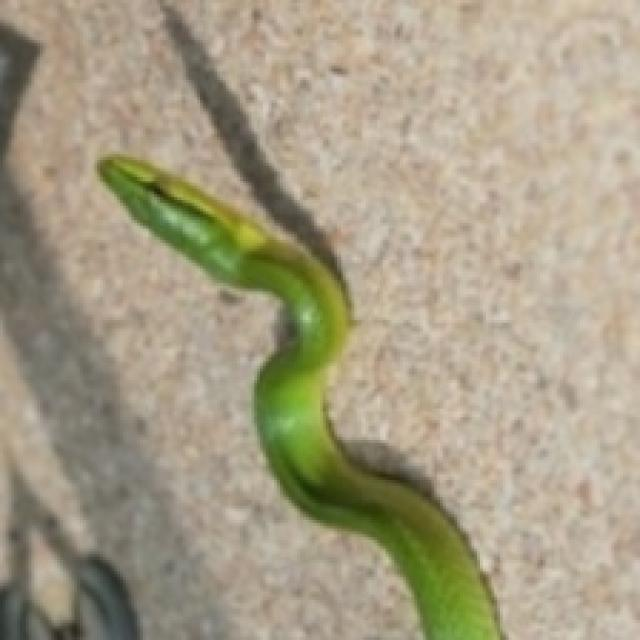red-tailed green ratsnake: (97, 154, 500, 637)
